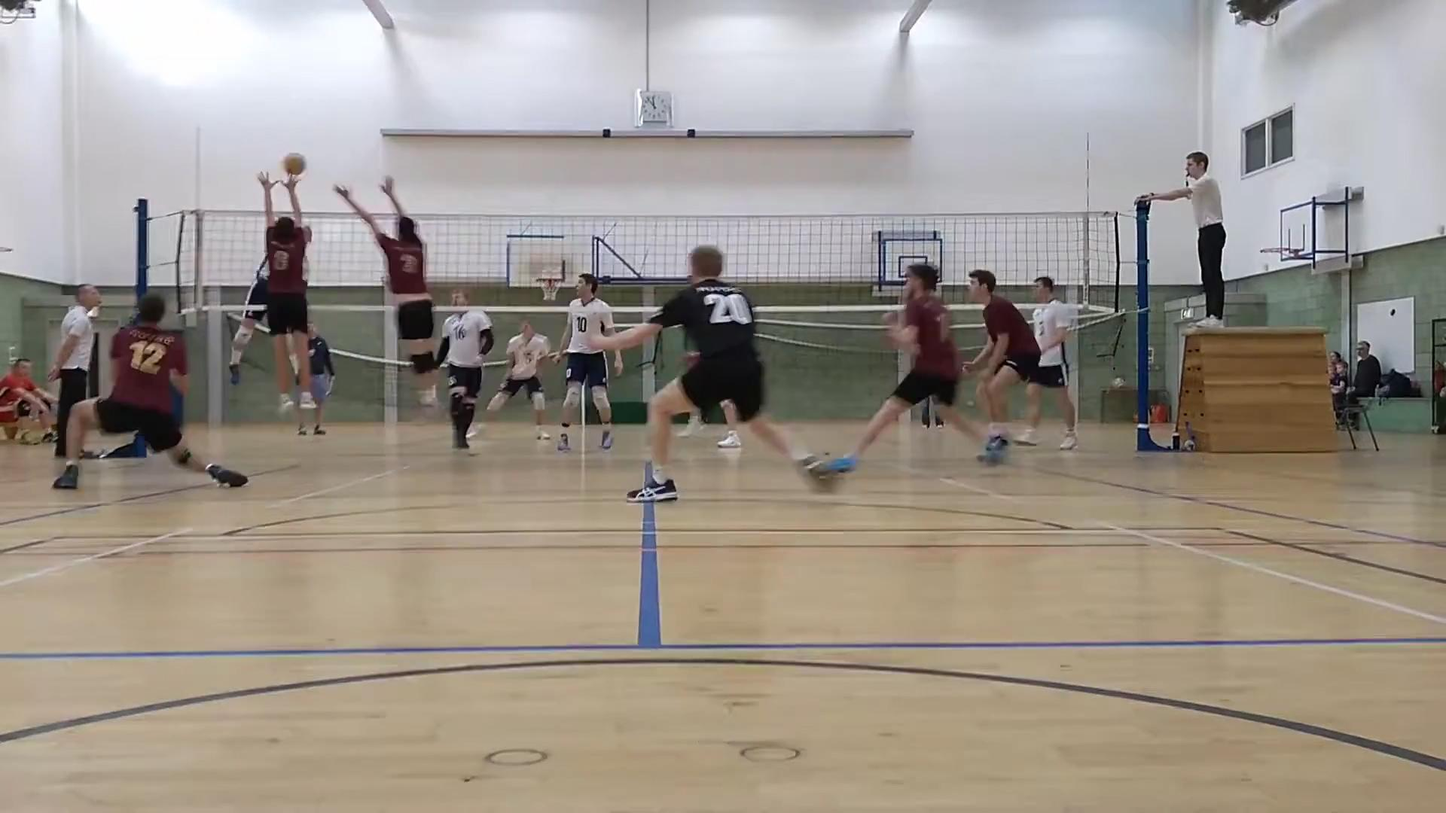attacco: (203, 223, 278, 390)
muro: (341, 178, 457, 422), (246, 173, 333, 429)
